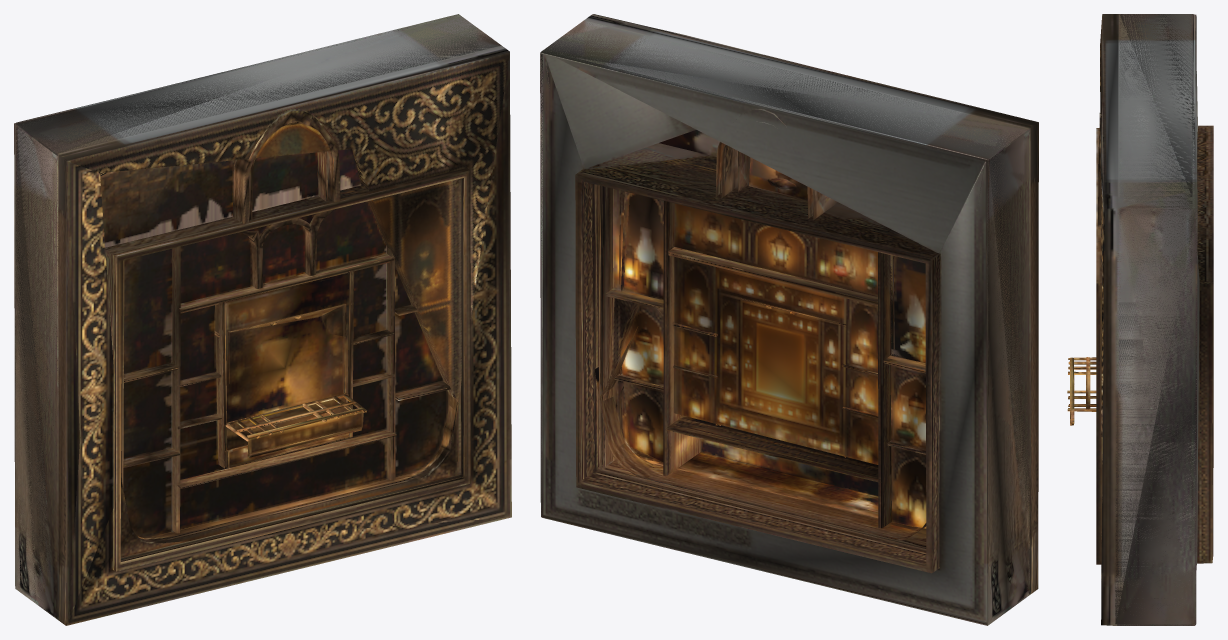
The model's file is Meshy_AI_Framed_Lantern_Sanctu_0721143622_texture.fbx.
The picture shows the model from 3 angles, left to right: view 1: azimuth 30°, elevation 25°; view 2: azimuth 150°, elevation 25°; view 3: azimuth 270°, elevation 25°; orthographic projection. The views are drawn at different scales.
Parts seen in each view (by area): view 1: Mesh_0; view 2: Mesh_0; view 3: Mesh_0.
Part boxes in pixels (box(x1,y1,x2,y2)): Mesh_0: box(14, 14, 511, 625); Mesh_0: box(540, 14, 1038, 625); Mesh_0: box(1067, 14, 1213, 625).
Bounding box in the file's own units: 100 × 100 × 31.84.
1 material, 1 textured.
